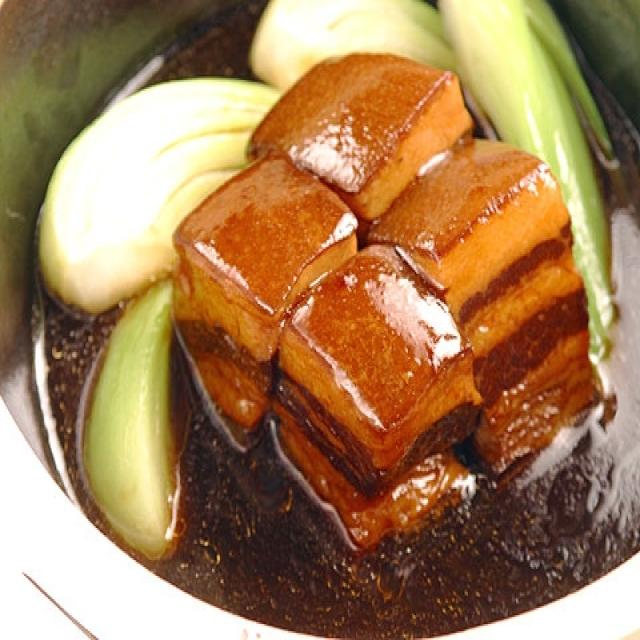牛肉菜式: (8, 2, 633, 629)
